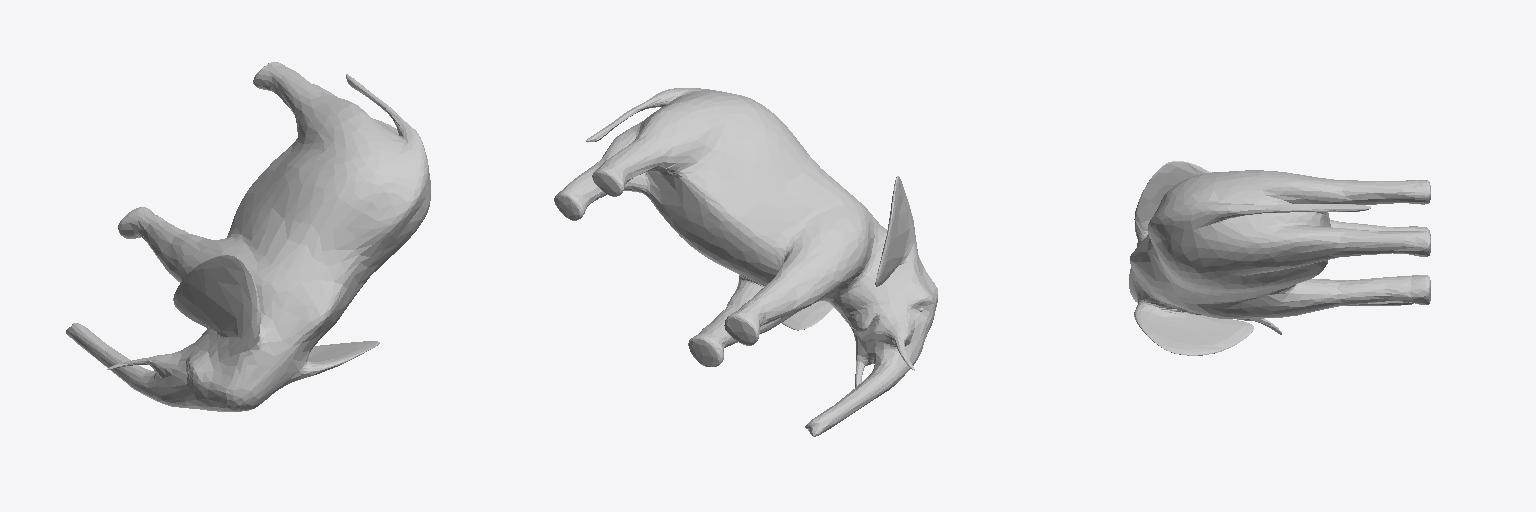
File: elephant.obj
3 renders of one model, left to right at view 1: azimuth 30°, elevation 25°; view 2: azimuth 150°, elevation 25°; view 3: azimuth 270°, elevation 25°, orthographic.
Visible parts, largest first — view 1: obj_0; view 2: obj_0; view 3: obj_0.
Part boxes in pixels (x1,y1,x2,y2): obj_0: (66,62,430,411); obj_0: (554,88,937,436); obj_0: (1129,161,1430,355).
Size of the model in its own units: 85.81 by 69 by 76.